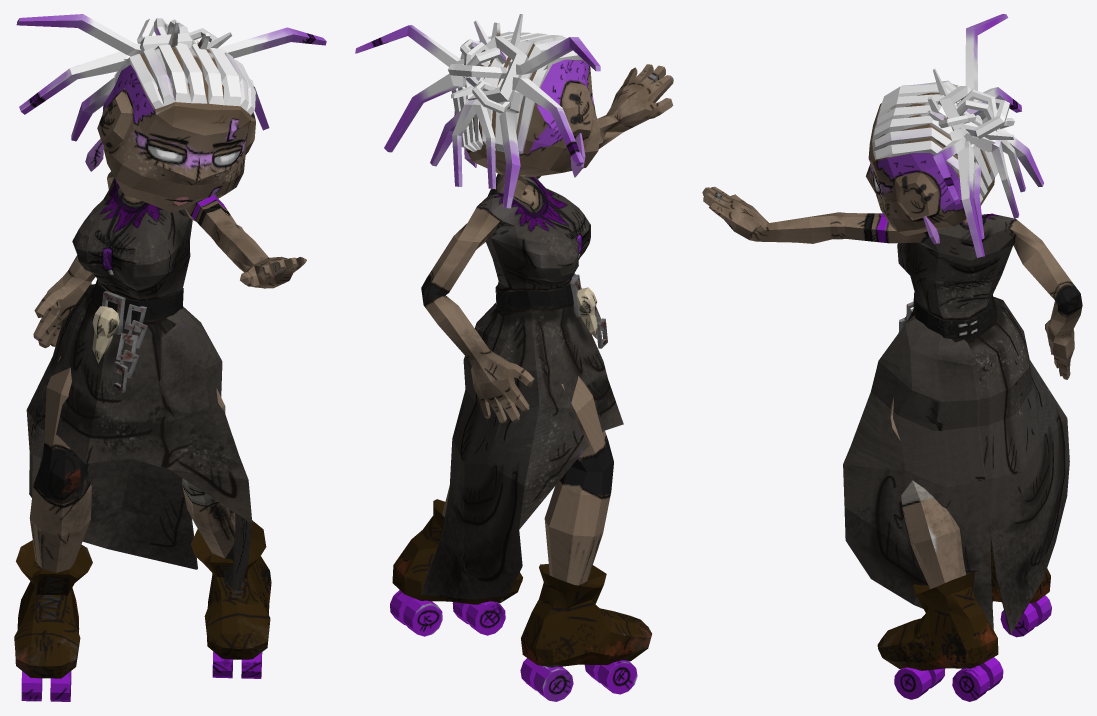
The model's file is bruja_000022.obj.
The picture shows the model from 3 angles, left to right: view 1: azimuth 30°, elevation 25°; view 2: azimuth 150°, elevation 25°; view 3: azimuth 270°, elevation 25°; orthographic projection. The views are drawn at different scales.
Parts seen in each view (by area): view 1: Bruja_Plane.001; view 2: Bruja_Plane.001; view 3: Bruja_Plane.001.
Part boxes in pixels (left/top/right/bottom): Bruja_Plane.001: left=14, top=14, right=326, bottom=701; Bruja_Plane.001: left=355, top=14, right=673, bottom=701; Bruja_Plane.001: left=702, top=14, right=1082, bottom=701.
Bounding box in the file's own units: 7.87 × 16.39 × 9.27.
